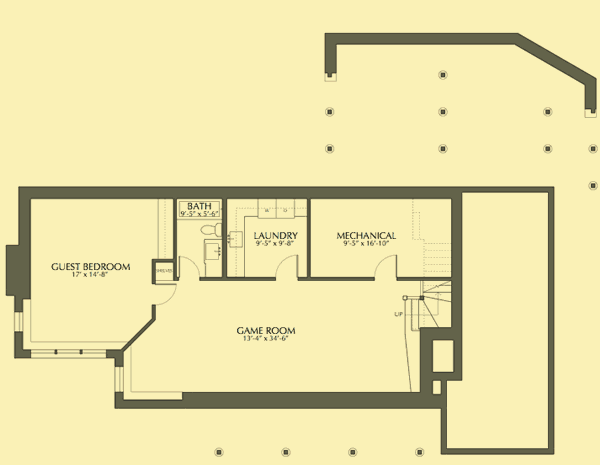door: (274, 253, 303, 281), (371, 252, 400, 280), (177, 255, 202, 282), (150, 283, 177, 304)
large_sink: (198, 220, 222, 240)
stairs: (394, 281, 453, 333)
window: (31, 348, 107, 359), (11, 310, 24, 334), (114, 364, 122, 393)
